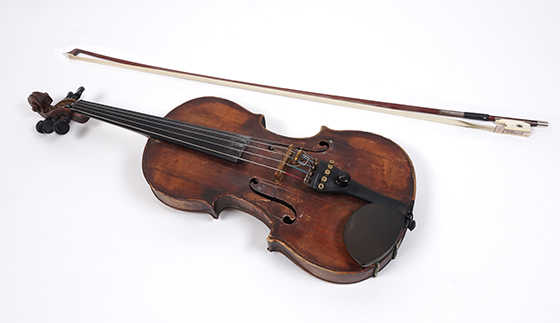Fiddle: (27, 27, 553, 287)
